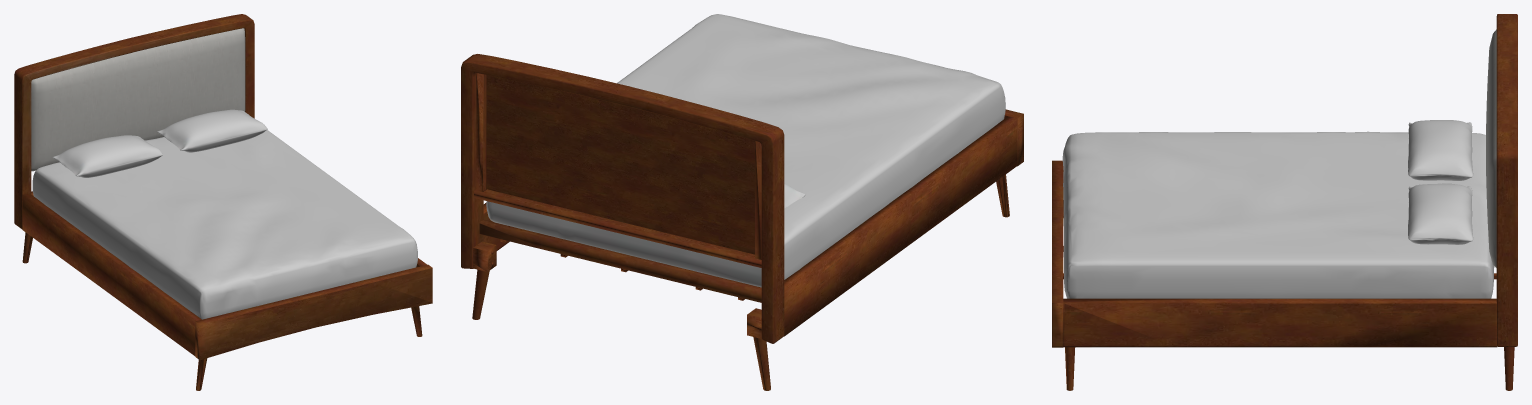
The model's file is B07B4VXZZX.glb.
3 views of the same model, side by side, from view 1: azimuth 30°, elevation 25°; view 2: azimuth 150°, elevation 25°; view 3: azimuth 270°, elevation 25° (orthographic). The views are drawn at different scales.
Visible parts, largest first — view 1: RootNode; view 2: RootNode; view 3: RootNode.
Boxes of the visible parts, <box> form: RootNode: <box>14,14,432,390</box>; RootNode: <box>461,14,1023,390</box>; RootNode: <box>1052,14,1517,390</box>.
Bounding box in the file's own units: 1.59 × 1.27 × 2.2.
Materials: 1 (1 with a texture image).
